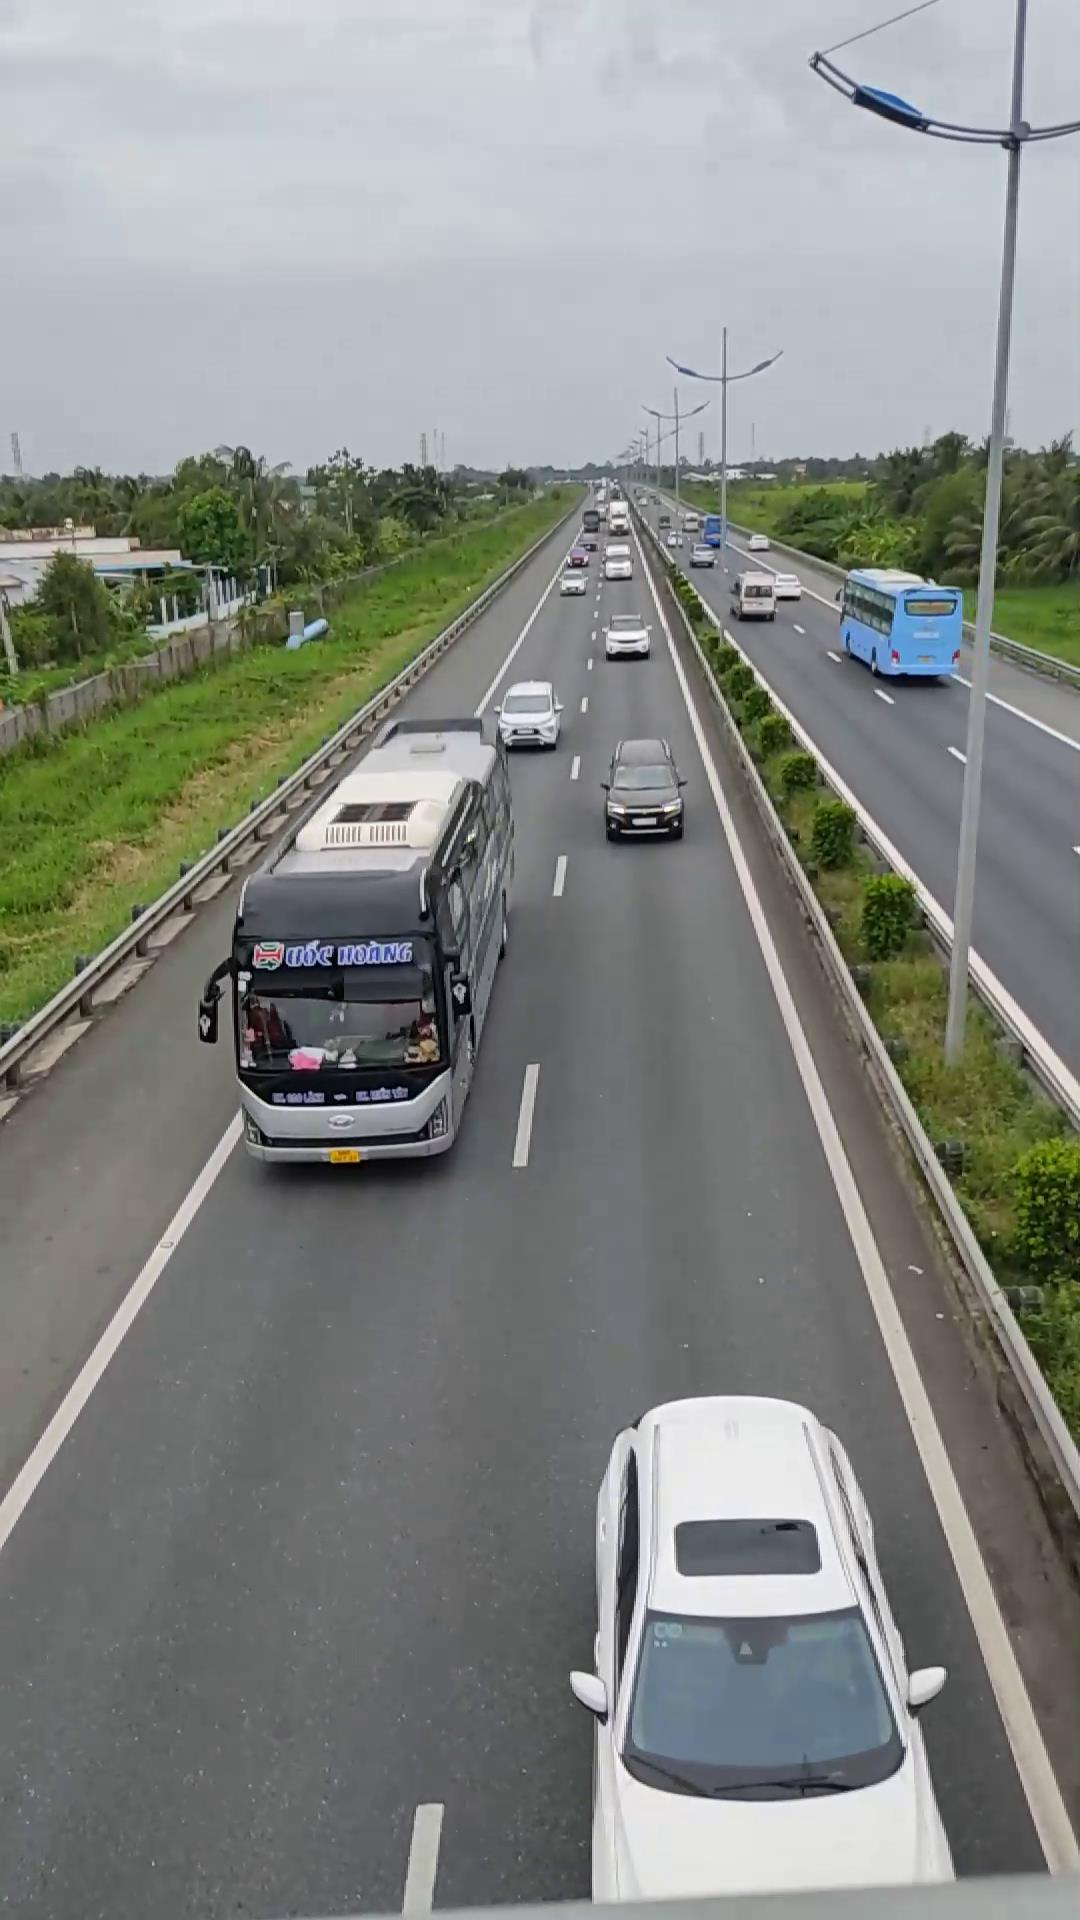bus: (205, 732, 517, 1167)
car: (575, 1391, 955, 1887), (599, 739, 687, 841), (486, 679, 564, 749)
